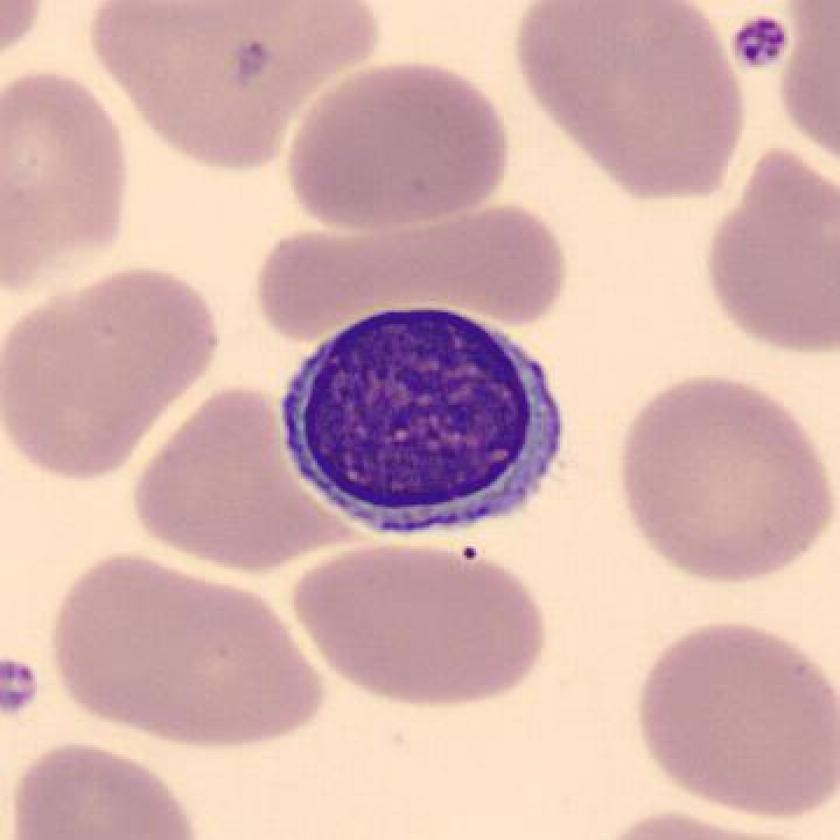lymphocyte: (269, 291, 582, 557)
